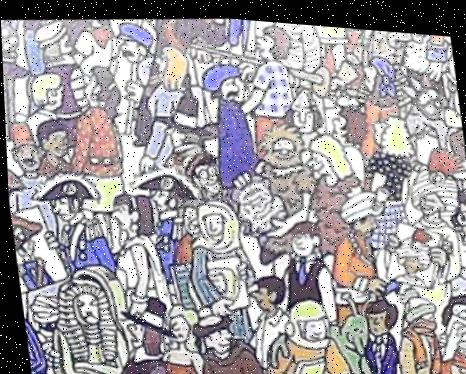waldo: (171, 142, 221, 199)
